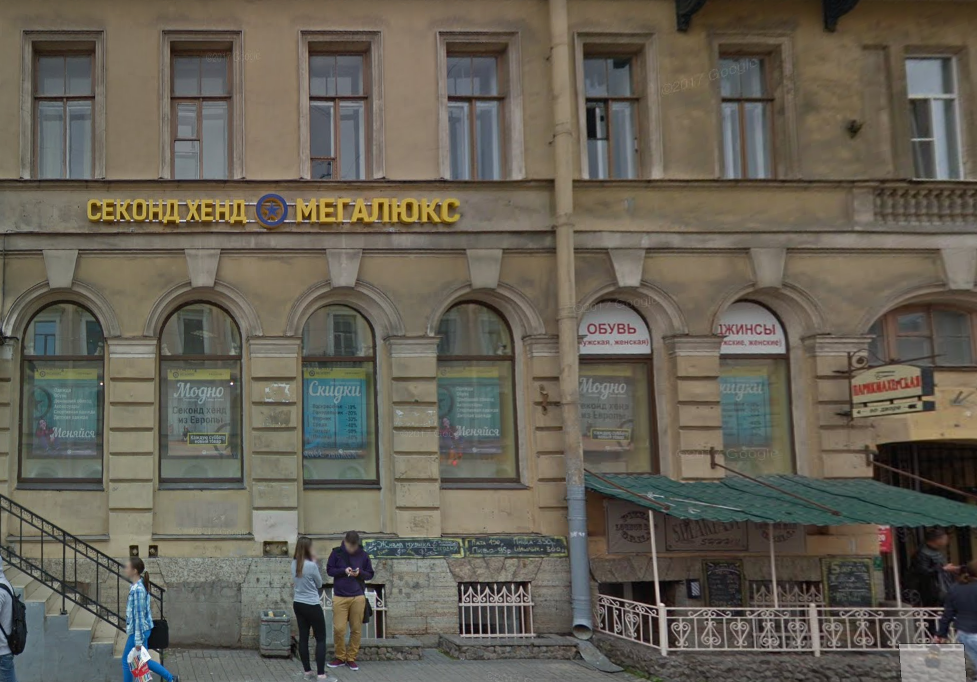cantilever: (829, 340, 944, 422)
signboard: (75, 179, 461, 240)
window: (17, 349, 101, 490), (157, 356, 242, 495), (437, 356, 523, 490), (292, 359, 378, 490), (576, 349, 654, 482), (28, 41, 98, 179), (443, 39, 511, 181), (305, 37, 372, 178), (718, 353, 794, 474), (714, 46, 779, 183), (172, 47, 233, 178), (583, 48, 641, 180), (905, 54, 966, 178)
